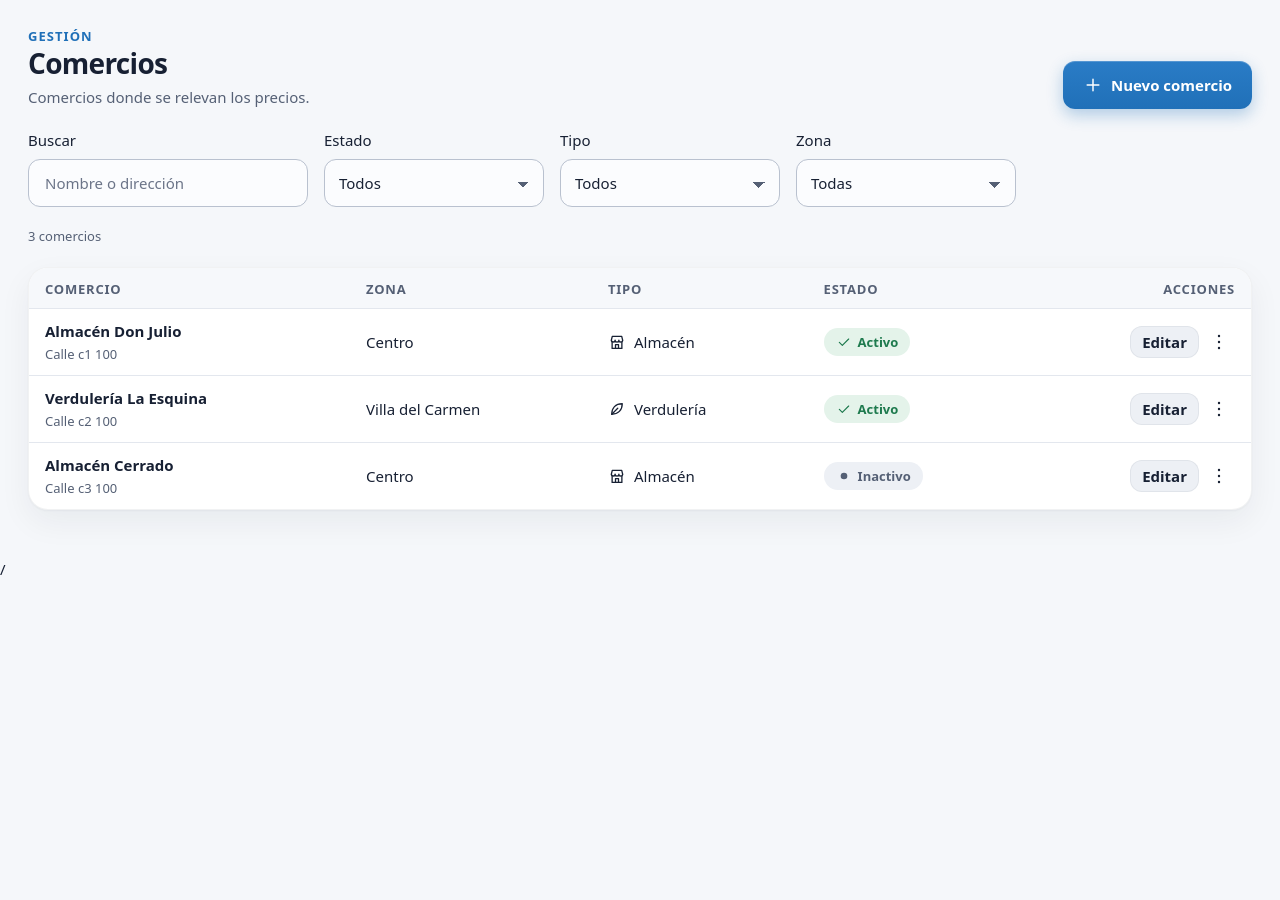
Test: create and edit comercio › maps a 400 errors[] onto the fields
Click the button "Nuevo comercio".
click(1158, 85)  # box [1063,61,1252,109]
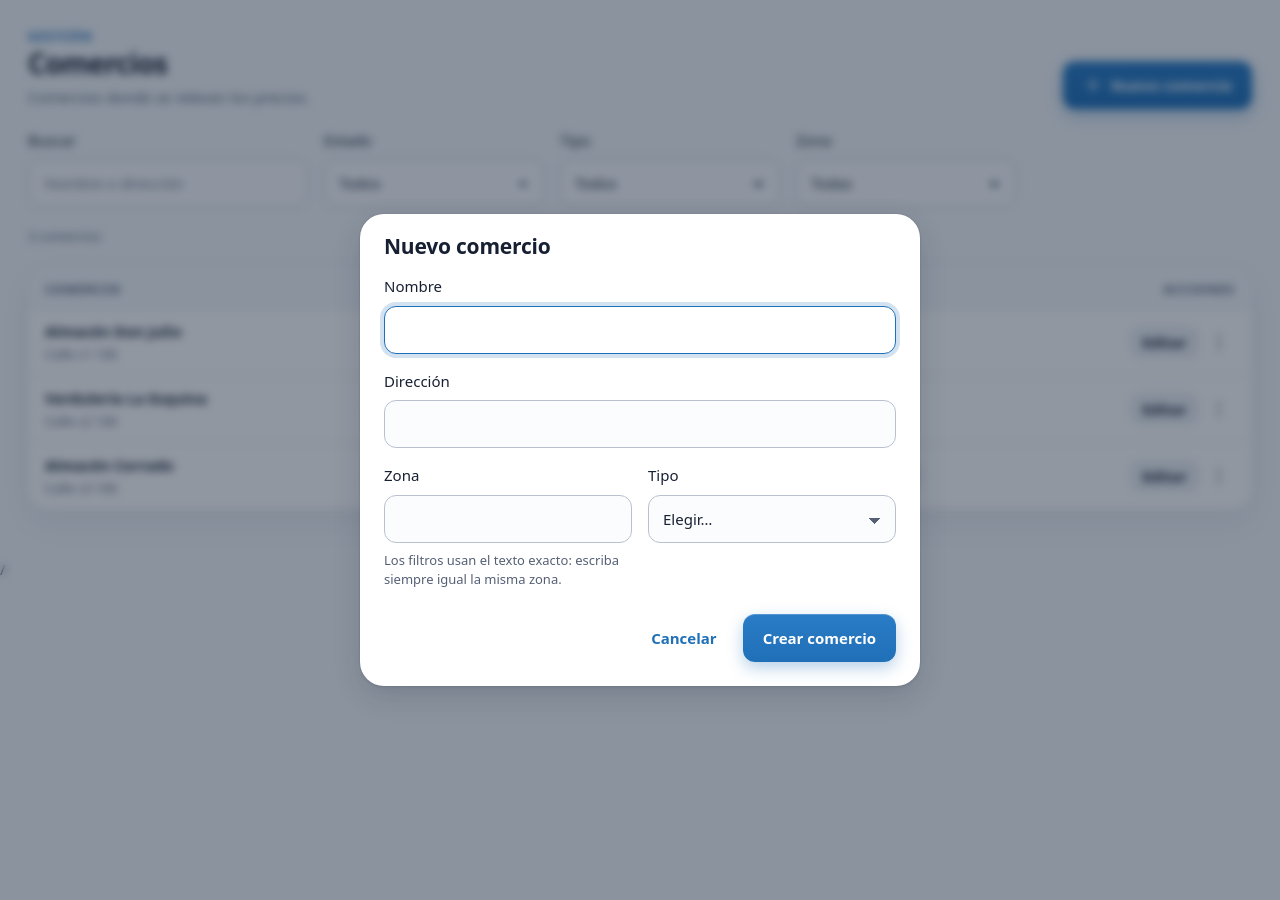
Type "A" into the field labelled "Nombre".
click(640, 330); type("A")  # box [384,306,896,354]
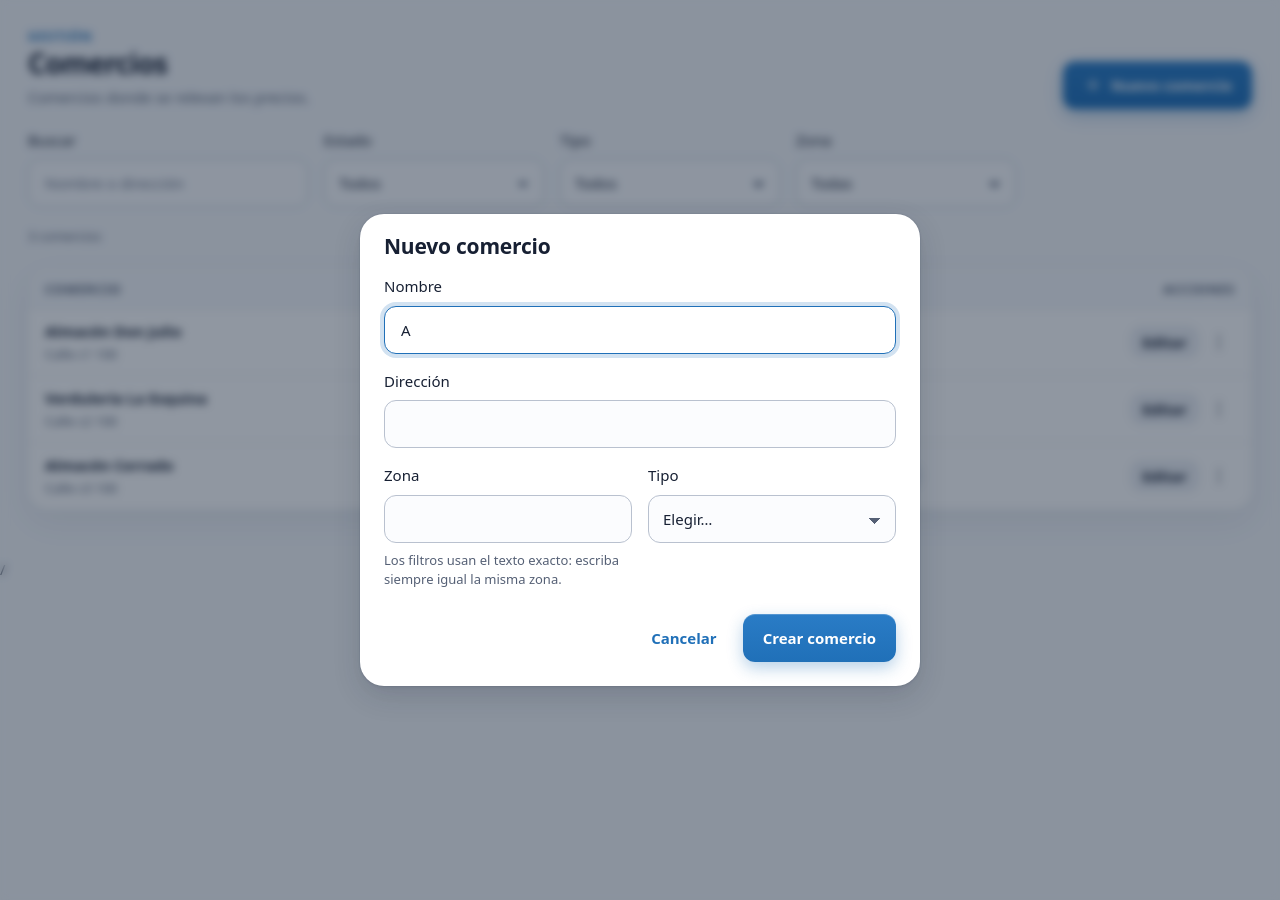
Type "B" into the field labelled "Dirección".
click(640, 424); type("B")  # box [384,400,896,448]
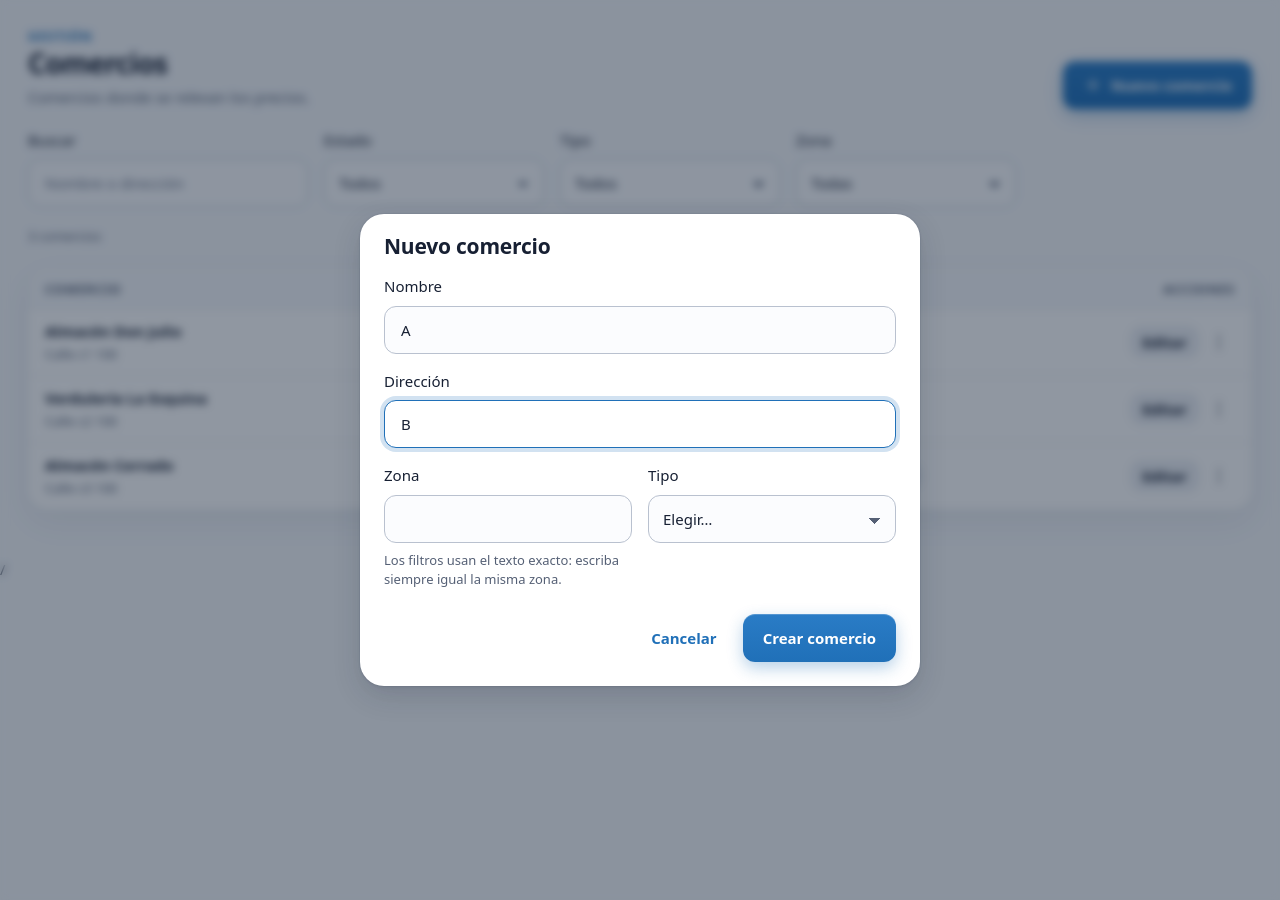
Type "C" into the field labelled "Zona".
click(508, 519); type("C")  # box [384,495,632,543]
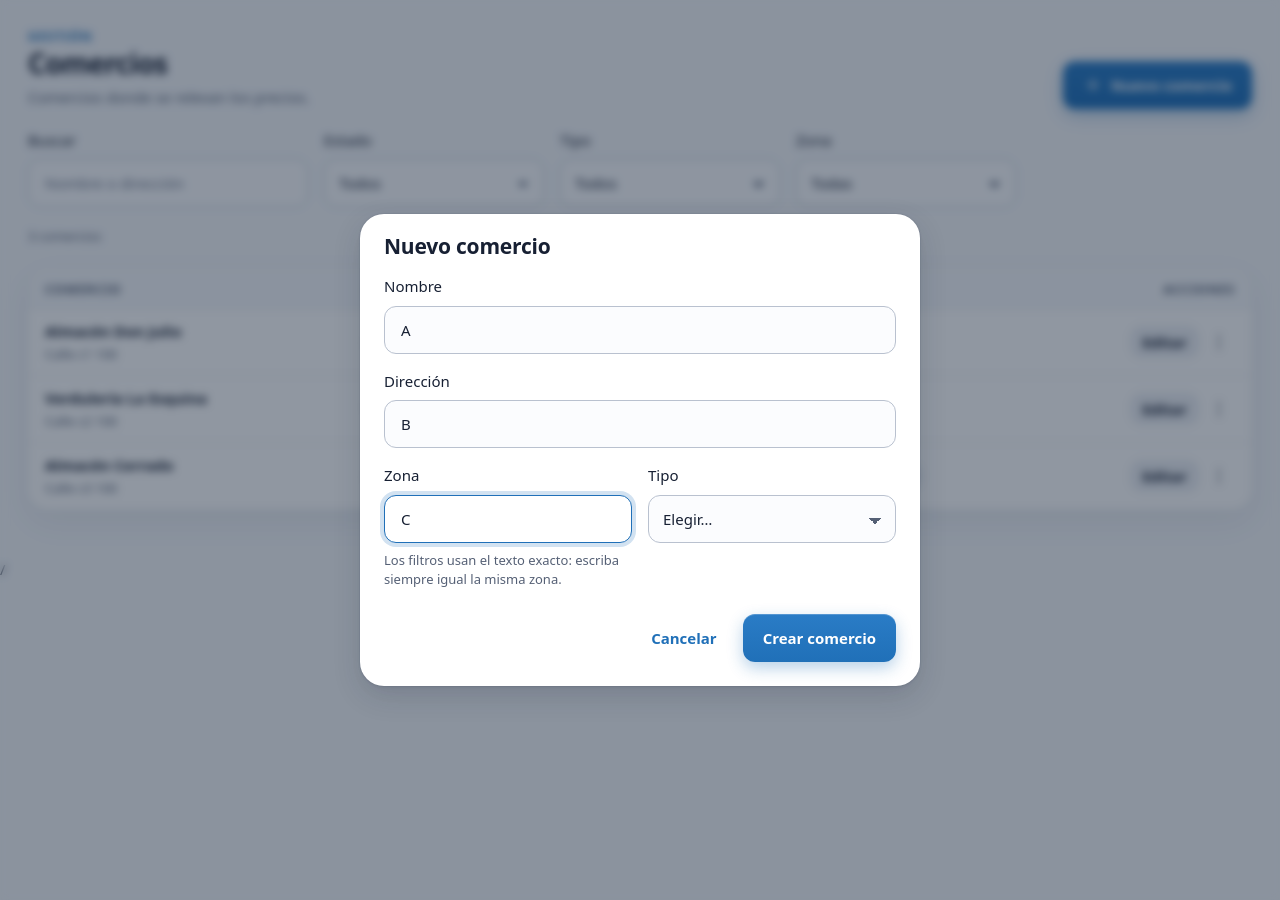
Select "Otro" in the dropdown labelled "Tipo" at (772, 519), box [648,495,896,543]
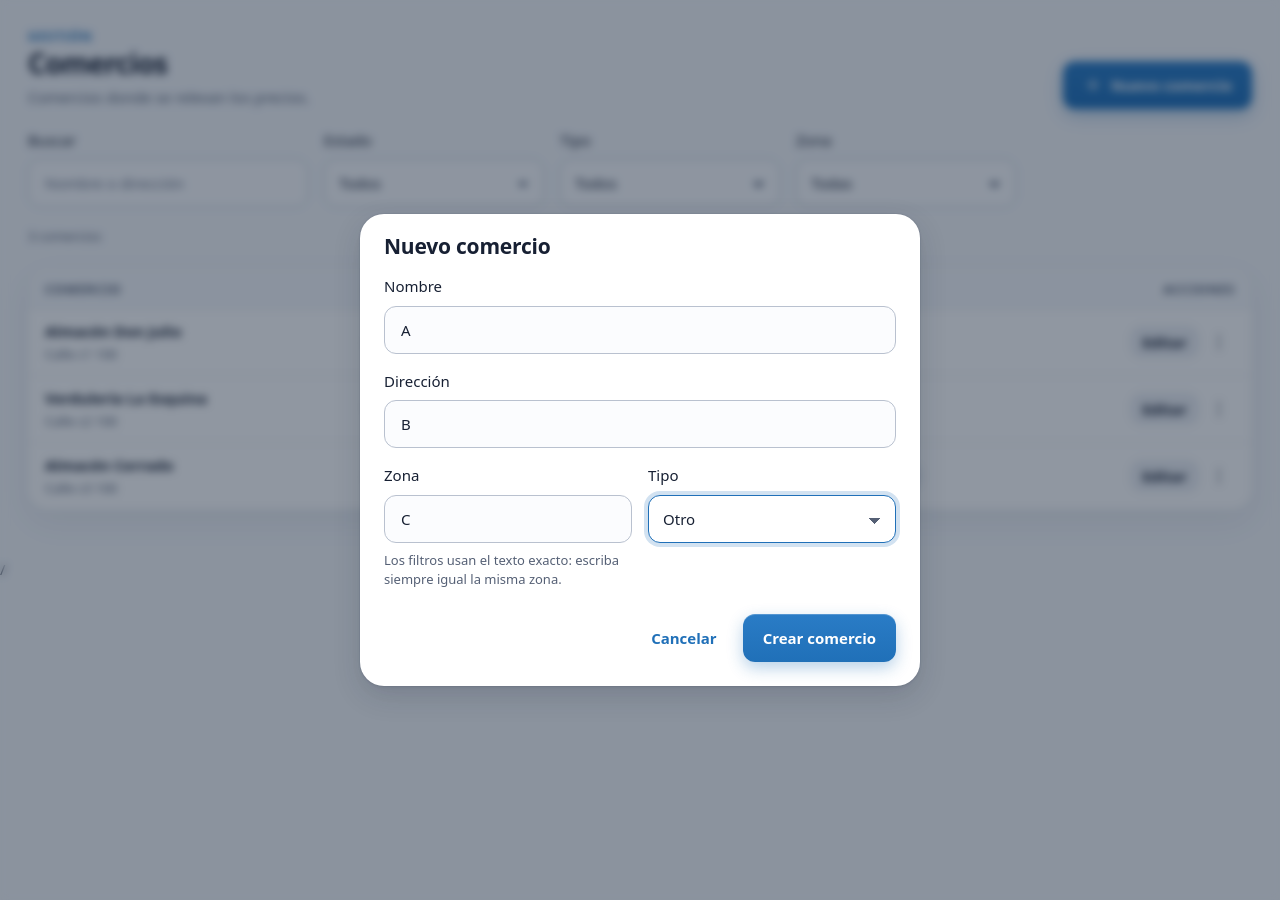
Click the button "Crear comercio".
click(819, 638)  # box [743,614,896,662]
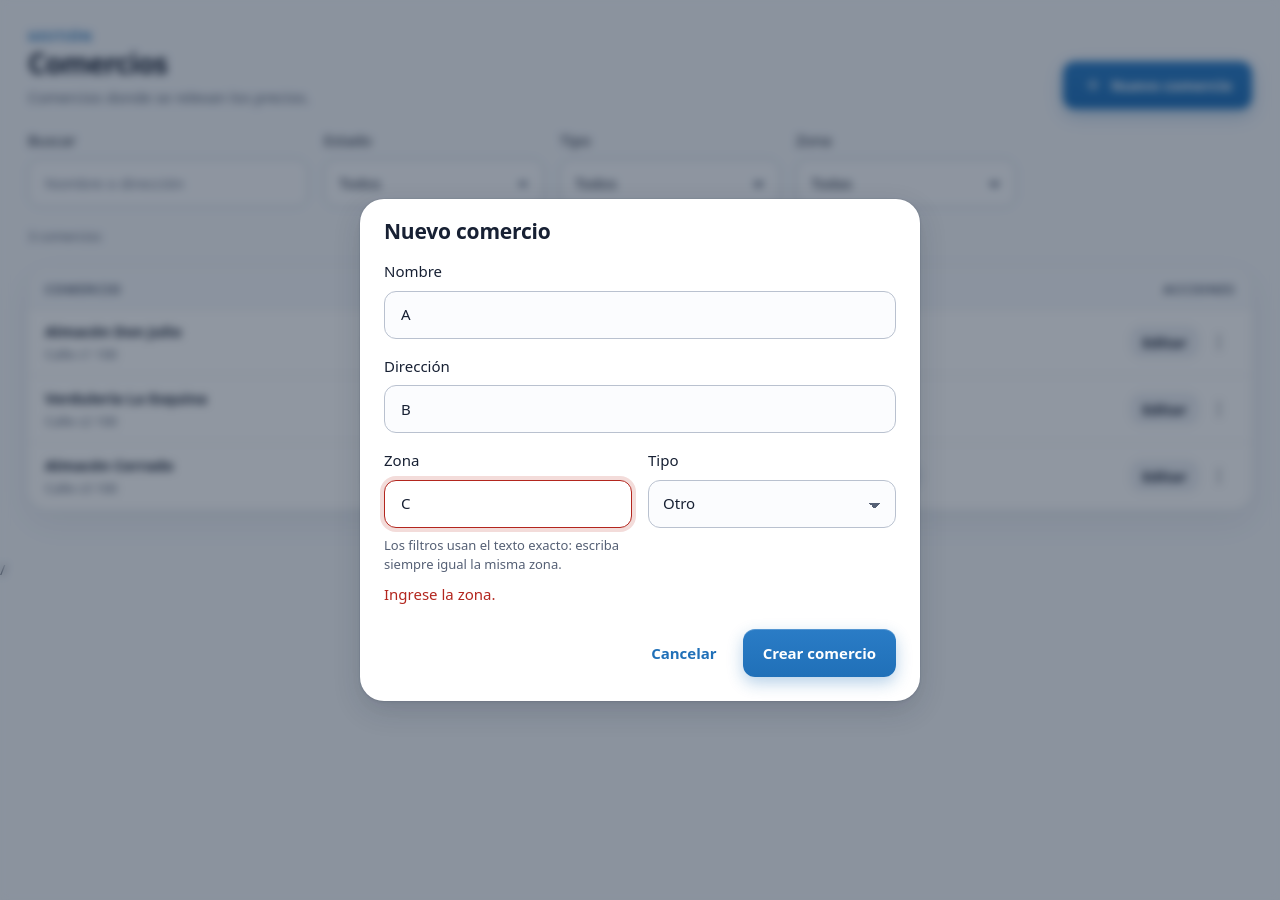
Check: the text "Ingrese la zona." is shown, box [384,584,496,604]
